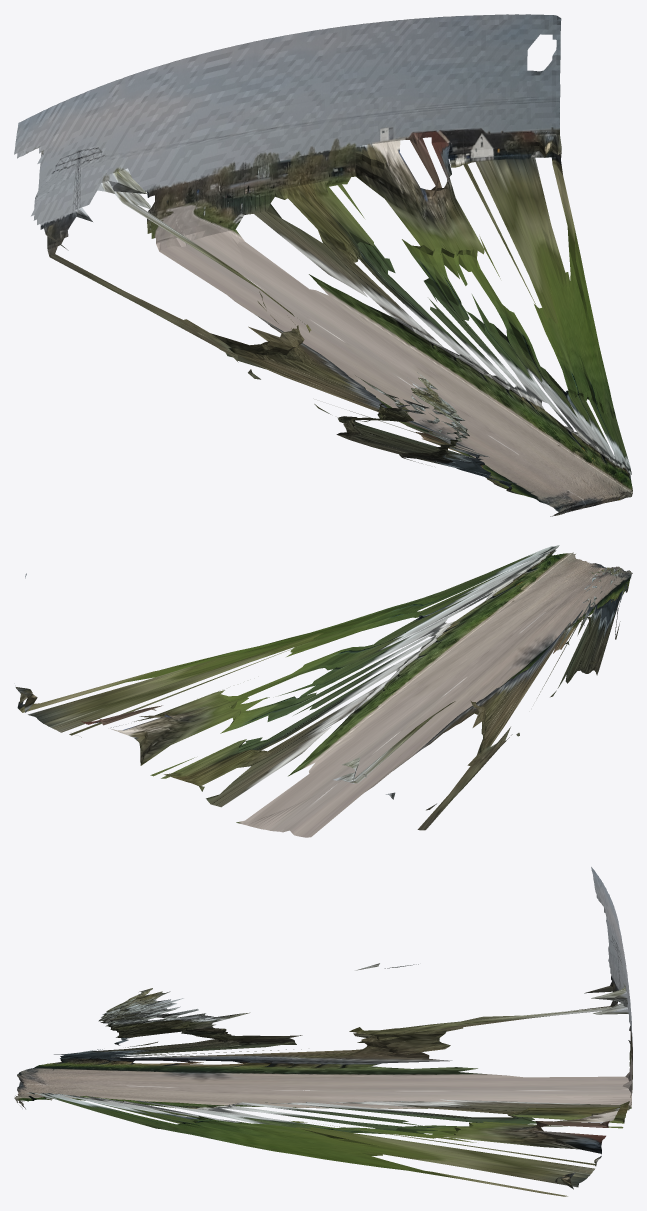
The picture shows the model from 3 angles, top to bottom: view 1: azimuth 30°, elevation 25°; view 2: azimuth 150°, elevation 25°; view 3: azimuth 270°, elevation 25°; orthographic projection. The views are drawn at different scales.
Visible parts, largest first — view 1: defaultobject; view 2: defaultobject; view 3: defaultobject.
Boxes of the visible parts, bbox=[...] form: defaultobject: bbox=[14, 14, 632, 516]; defaultobject: bbox=[15, 545, 632, 837]; defaultobject: bbox=[14, 867, 632, 1196].
Bounding box in the file's own units: 35.23 × 12.42 × 44.47.
1 material, 1 textured.
